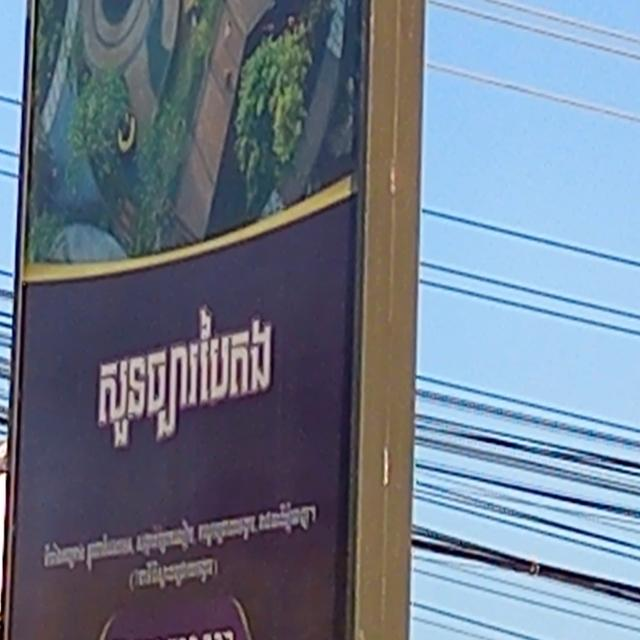Yolov11kh: (97, 299, 276, 459)
